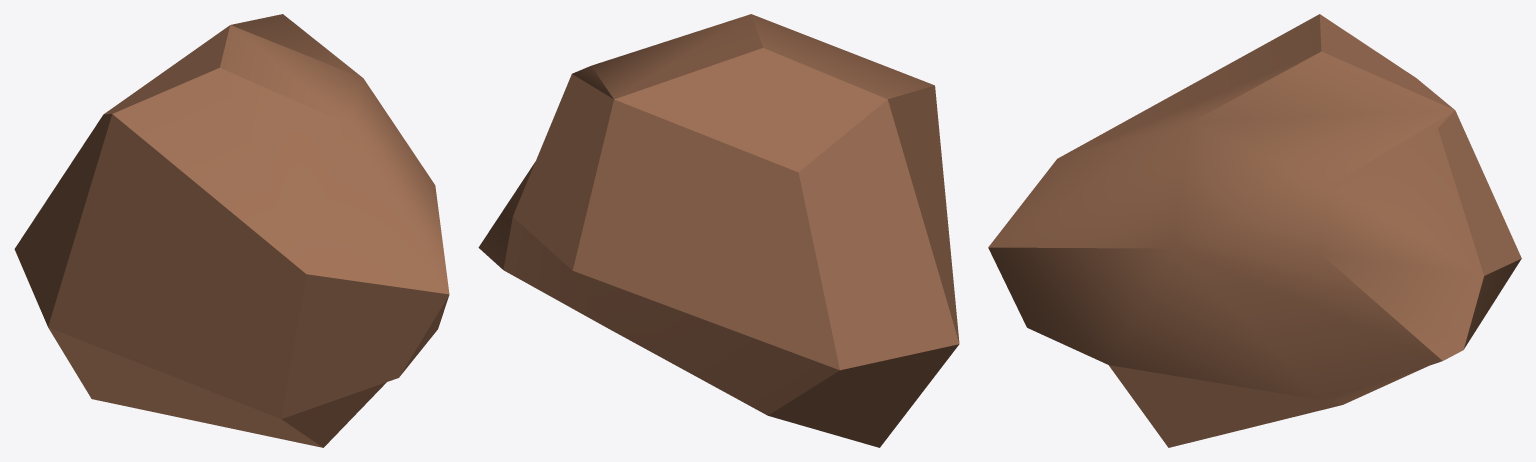
Rendered from rock_small_3.fbx.
3 views of the same model, side by side, from view 1: azimuth 30°, elevation 25°; view 2: azimuth 150°, elevation 25°; view 3: azimuth 270°, elevation 25° (orthographic). The views are drawn at different scales.
Parts seen in each view (by area): view 1: Retopo_Rock generator addon.024; view 2: Retopo_Rock generator addon.024; view 3: Retopo_Rock generator addon.024.
Part boxes in pixels (left/top/right/bottom): Retopo_Rock generator addon.024: left=14, top=14, right=449, bottom=447; Retopo_Rock generator addon.024: left=478, top=14, right=959, bottom=447; Retopo_Rock generator addon.024: left=988, top=14, right=1521, bottom=447.
Size of the model in its own units: 8.8 by 7.76 by 9.95.
